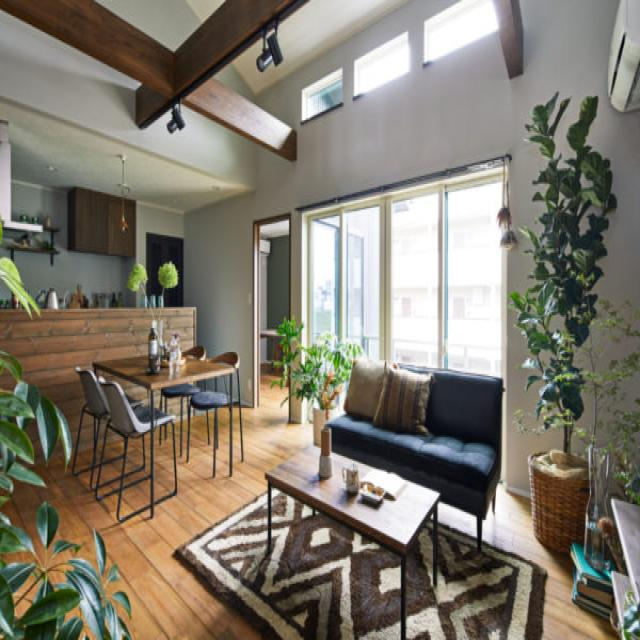vintage chair: (95, 374, 178, 522), (67, 360, 147, 478), (187, 349, 248, 480)
vintage desk: (265, 444, 448, 638), (93, 353, 234, 492)
vintage sofa: (326, 346, 506, 513)
